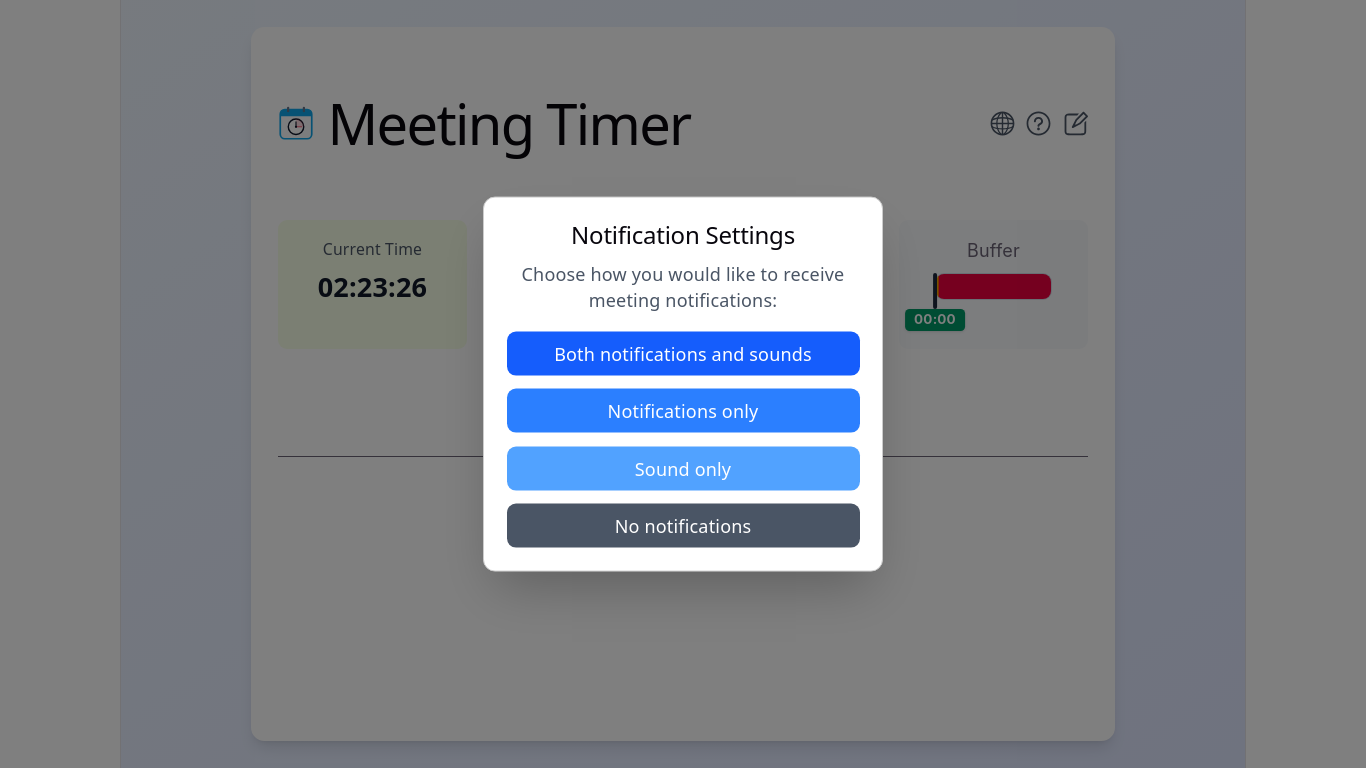
it: TimerScreen Component › audio functionality › should not initialize audio context when no notifications option is selected
Click the button "No notifications". click: (683,526)
box: [506,504,860,548]
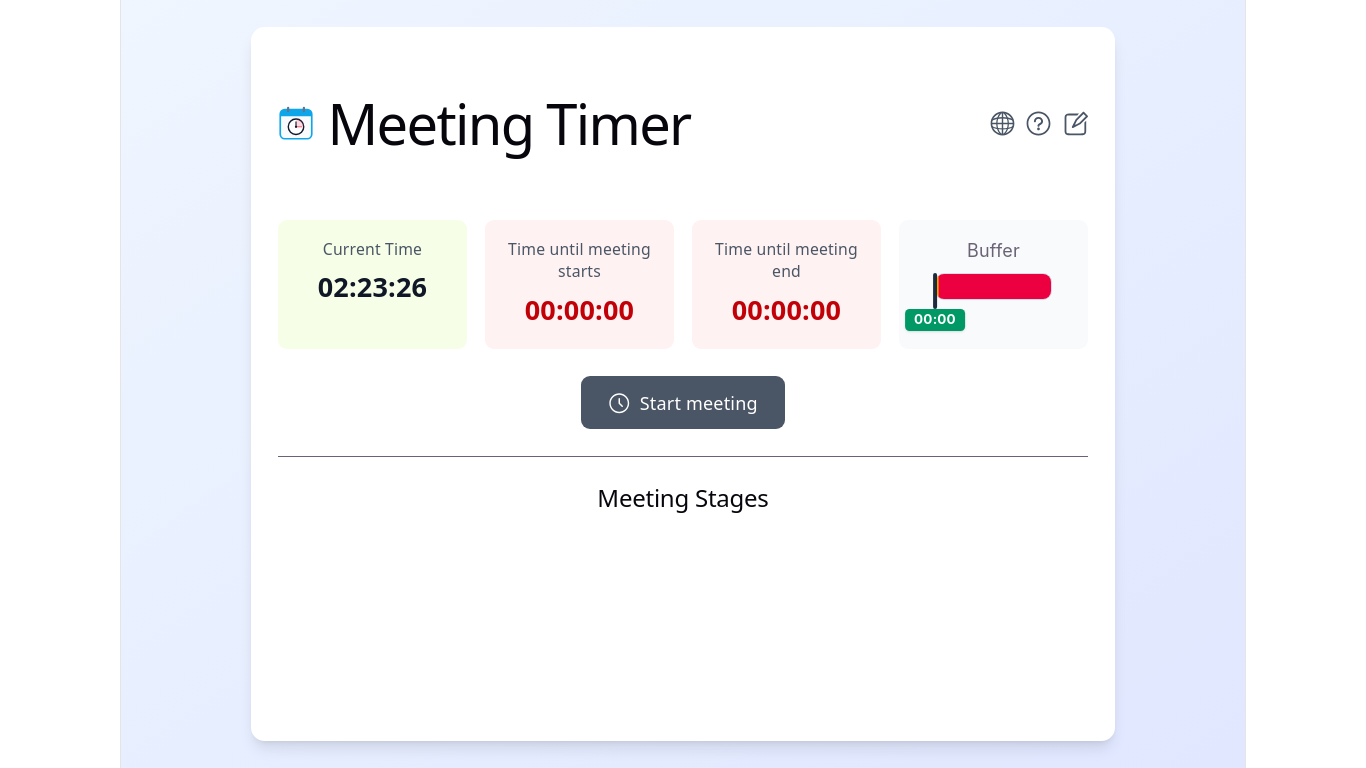
Check: the heading "Notification Settings" is gone
